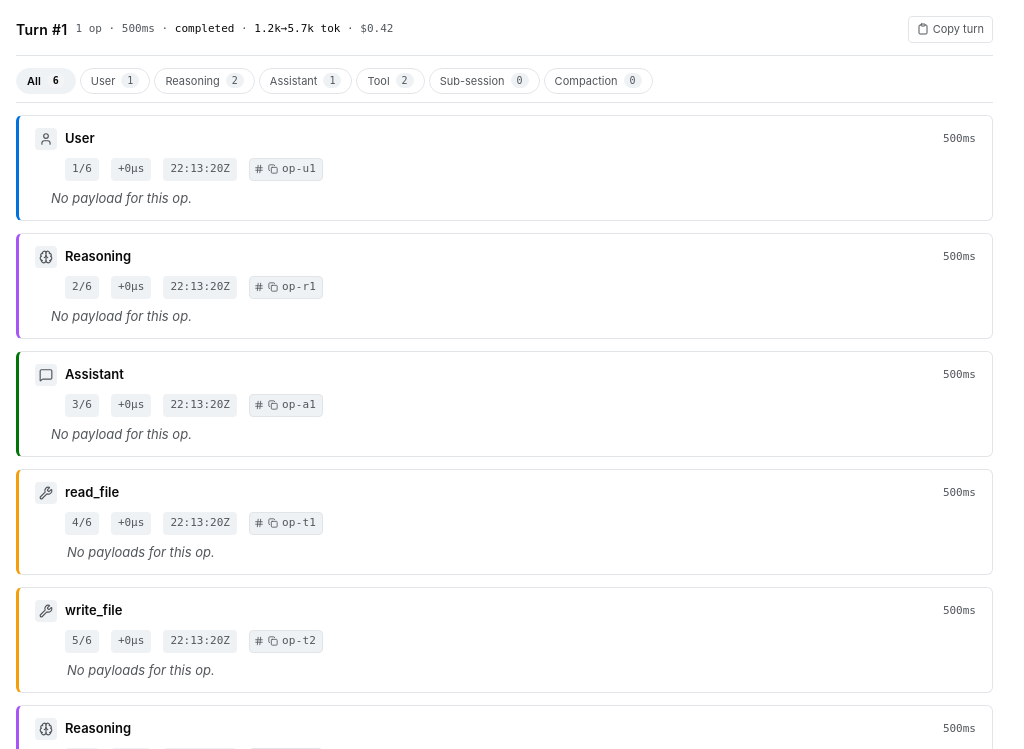
Test: TurnView — step filter › filters to reasoning only when 'reasoning' is active
The width and height of the screenshot is (1024, 749).
Click the tab "Reasoning 2".
click(205, 81)  # box [154, 68, 255, 94]
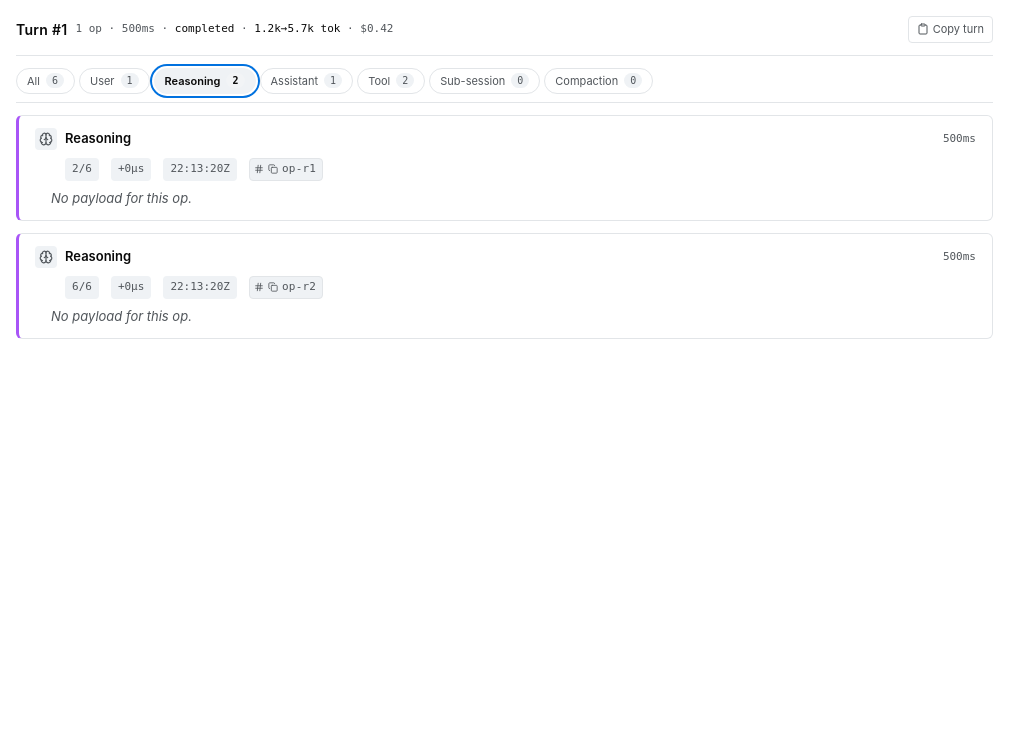
Expected: the element with test id "turn-step-op-r1" is shown, [16, 115, 993, 221]
Expected: the element with test id "turn-step-op-t1" is gone
